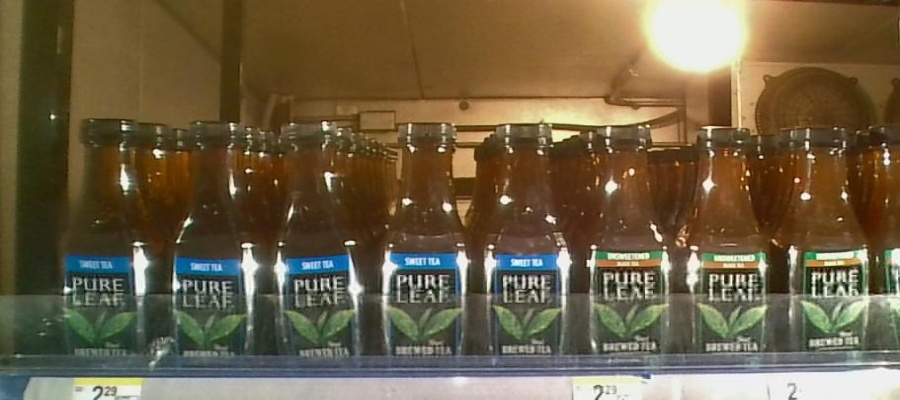bottle: (51, 117, 159, 368), (374, 108, 475, 376), (162, 117, 268, 370), (481, 110, 580, 377), (271, 114, 370, 372), (587, 114, 678, 365), (779, 117, 871, 362), (685, 119, 776, 366), (875, 124, 900, 355)
